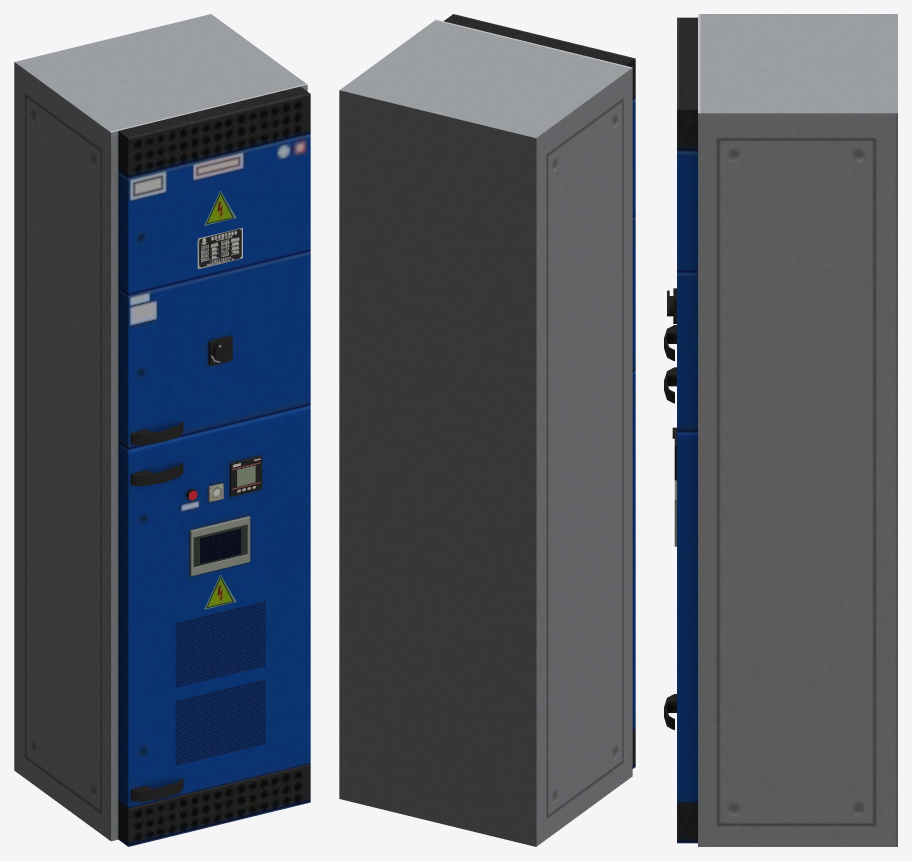
File: APF.glb
3 views of the same model, side by side, from view 1: azimuth 30°, elevation 25°; view 2: azimuth 150°, elevation 25°; view 3: azimuth 270°, elevation 25° (orthographic). The views are drawn at different scales.
Visible parts, largest first — view 1: polySurface212; view 2: polySurface212; view 3: polySurface212.
Boxes of the visible parts, <box> form: polySurface212: <box>14,14,310,846</box>; polySurface212: <box>339,14,635,846</box>; polySurface212: <box>664,14,897,846</box>.
Size of the model in its own units: 6.39 by 22 by 6.36.
Materials: 1 (1 with a texture image).
